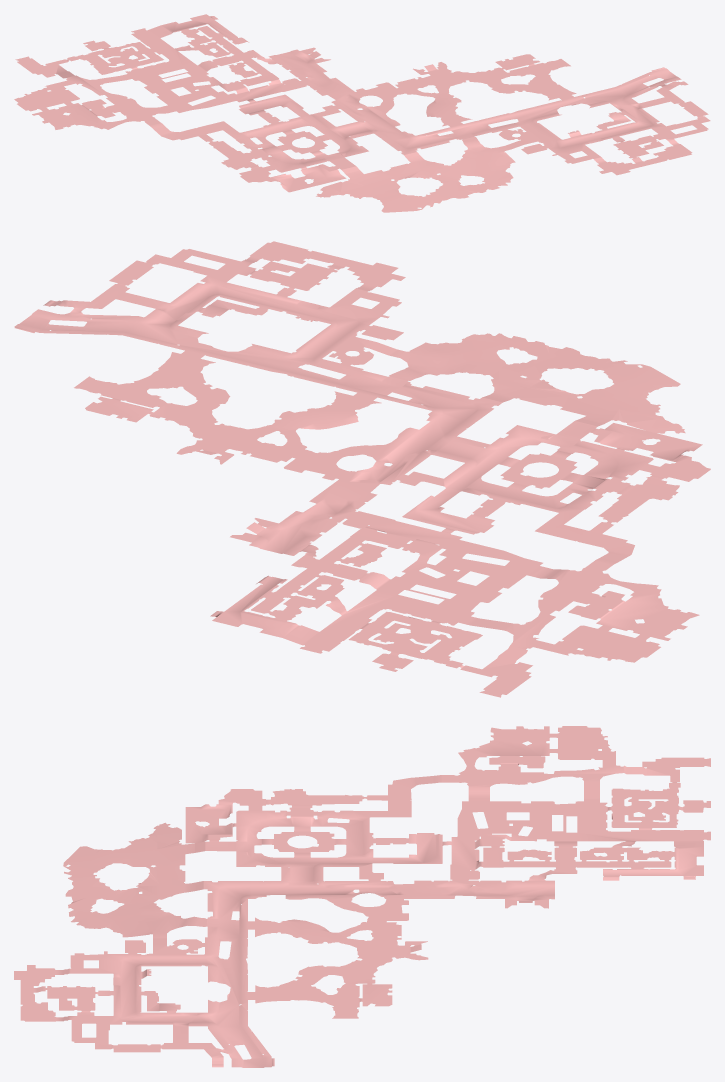
The model's file is NaviMap.fbx.
3 views of the same model, one above another, from view 1: azimuth 30°, elevation 25°; view 2: azimuth 150°, elevation 25°; view 3: azimuth 270°, elevation 25° (orthographic). The views are drawn at different scales.
Visible parts, largest first — view 1: Uptown.001; view 2: Uptown.001; view 3: Uptown.001.
Part boxes in pixels (left/top/right/bottom): Uptown.001: left=14, top=14, right=710, bottom=212; Uptown.001: left=14, top=241, right=710, bottom=697; Uptown.001: left=14, top=726, right=710, bottom=1067.
Bounding box in the file's own units: 21919 × 357 × 19250.
